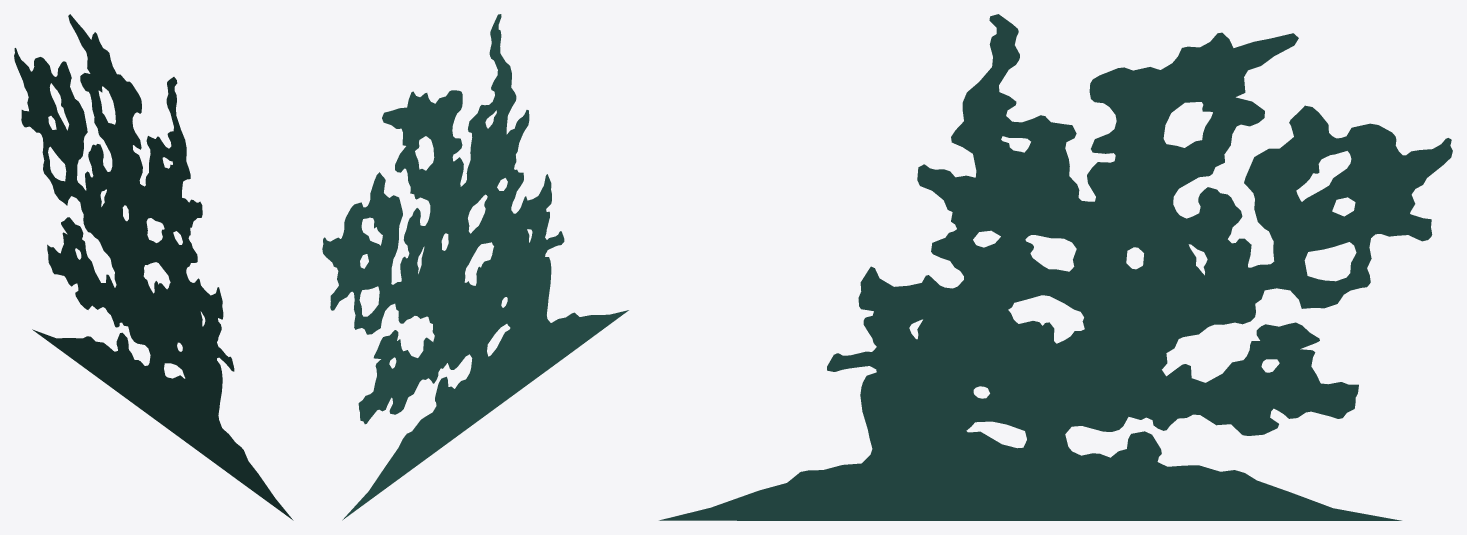
Rendered from plant_swamp_algea_flat_A.fbx.
The picture shows the model from 3 angles, left to right: view 1: azimuth 30°, elevation 25°; view 2: azimuth 150°, elevation 25°; view 3: azimuth 270°, elevation 25°; orthographic projection. The views are drawn at different scales.
Parts seen in each view (by area): view 1: plant_swamp_algea_flat_A; view 2: plant_swamp_algea_flat_A; view 3: plant_swamp_algea_flat_A.
Boxes of the visible parts, bbox=[...] form: plant_swamp_algea_flat_A: bbox=[14, 14, 293, 520]; plant_swamp_algea_flat_A: bbox=[322, 14, 628, 520]; plant_swamp_algea_flat_A: bbox=[659, 14, 1452, 520].
Size of the model in its own units: 0.000244 by 263 by 373.
